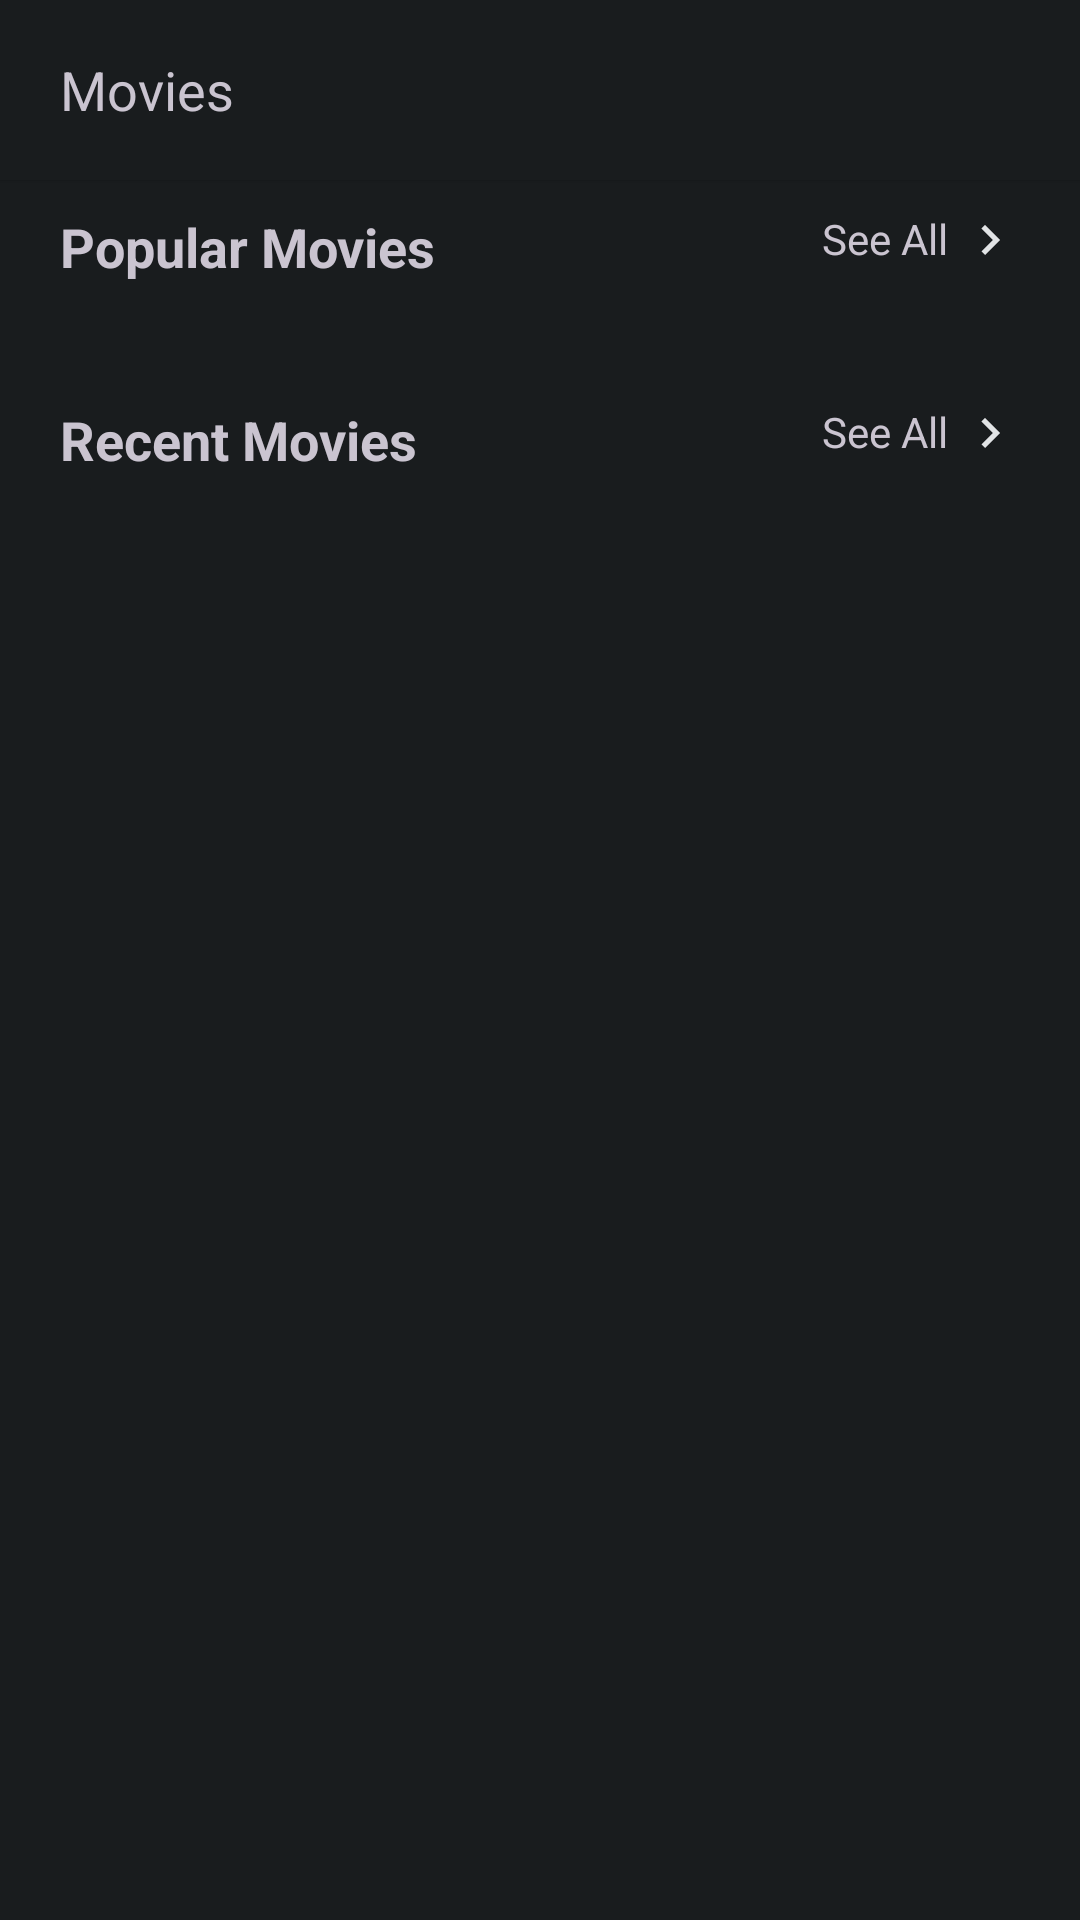

Screen size 1080px x 1920px. Icon name, then its center in pixels as (x=x, y=y):
navigate next: (x=990, y=240), (x=990, y=433)
